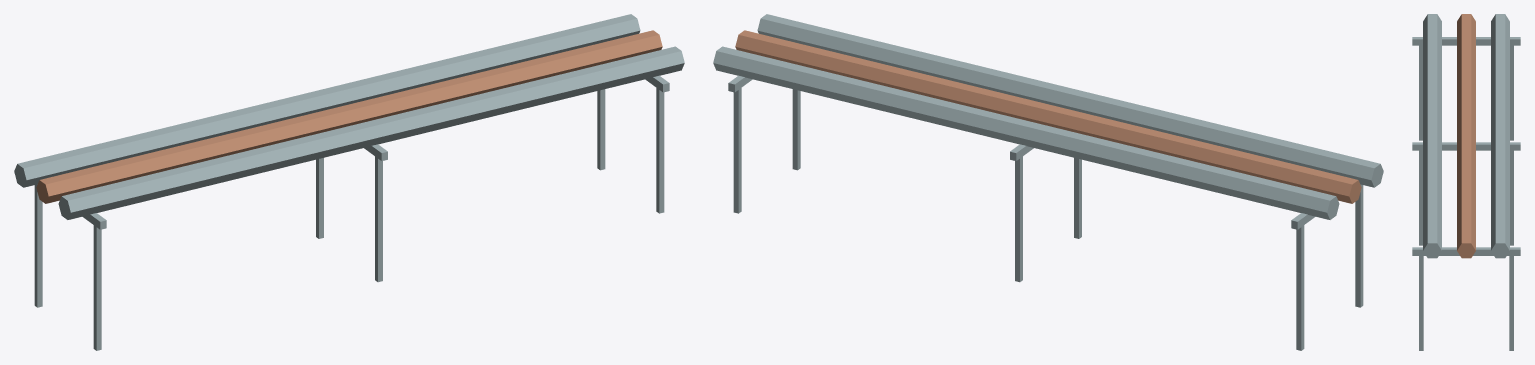
3 renders of one model, left to right at view 1: azimuth 30°, elevation 25°; view 2: azimuth 150°, elevation 25°; view 3: azimuth 270°, elevation 25°, orthographic. The views are drawn at different scales.
Size of the model in its own units: 24 by 5.66 by 4.8.
